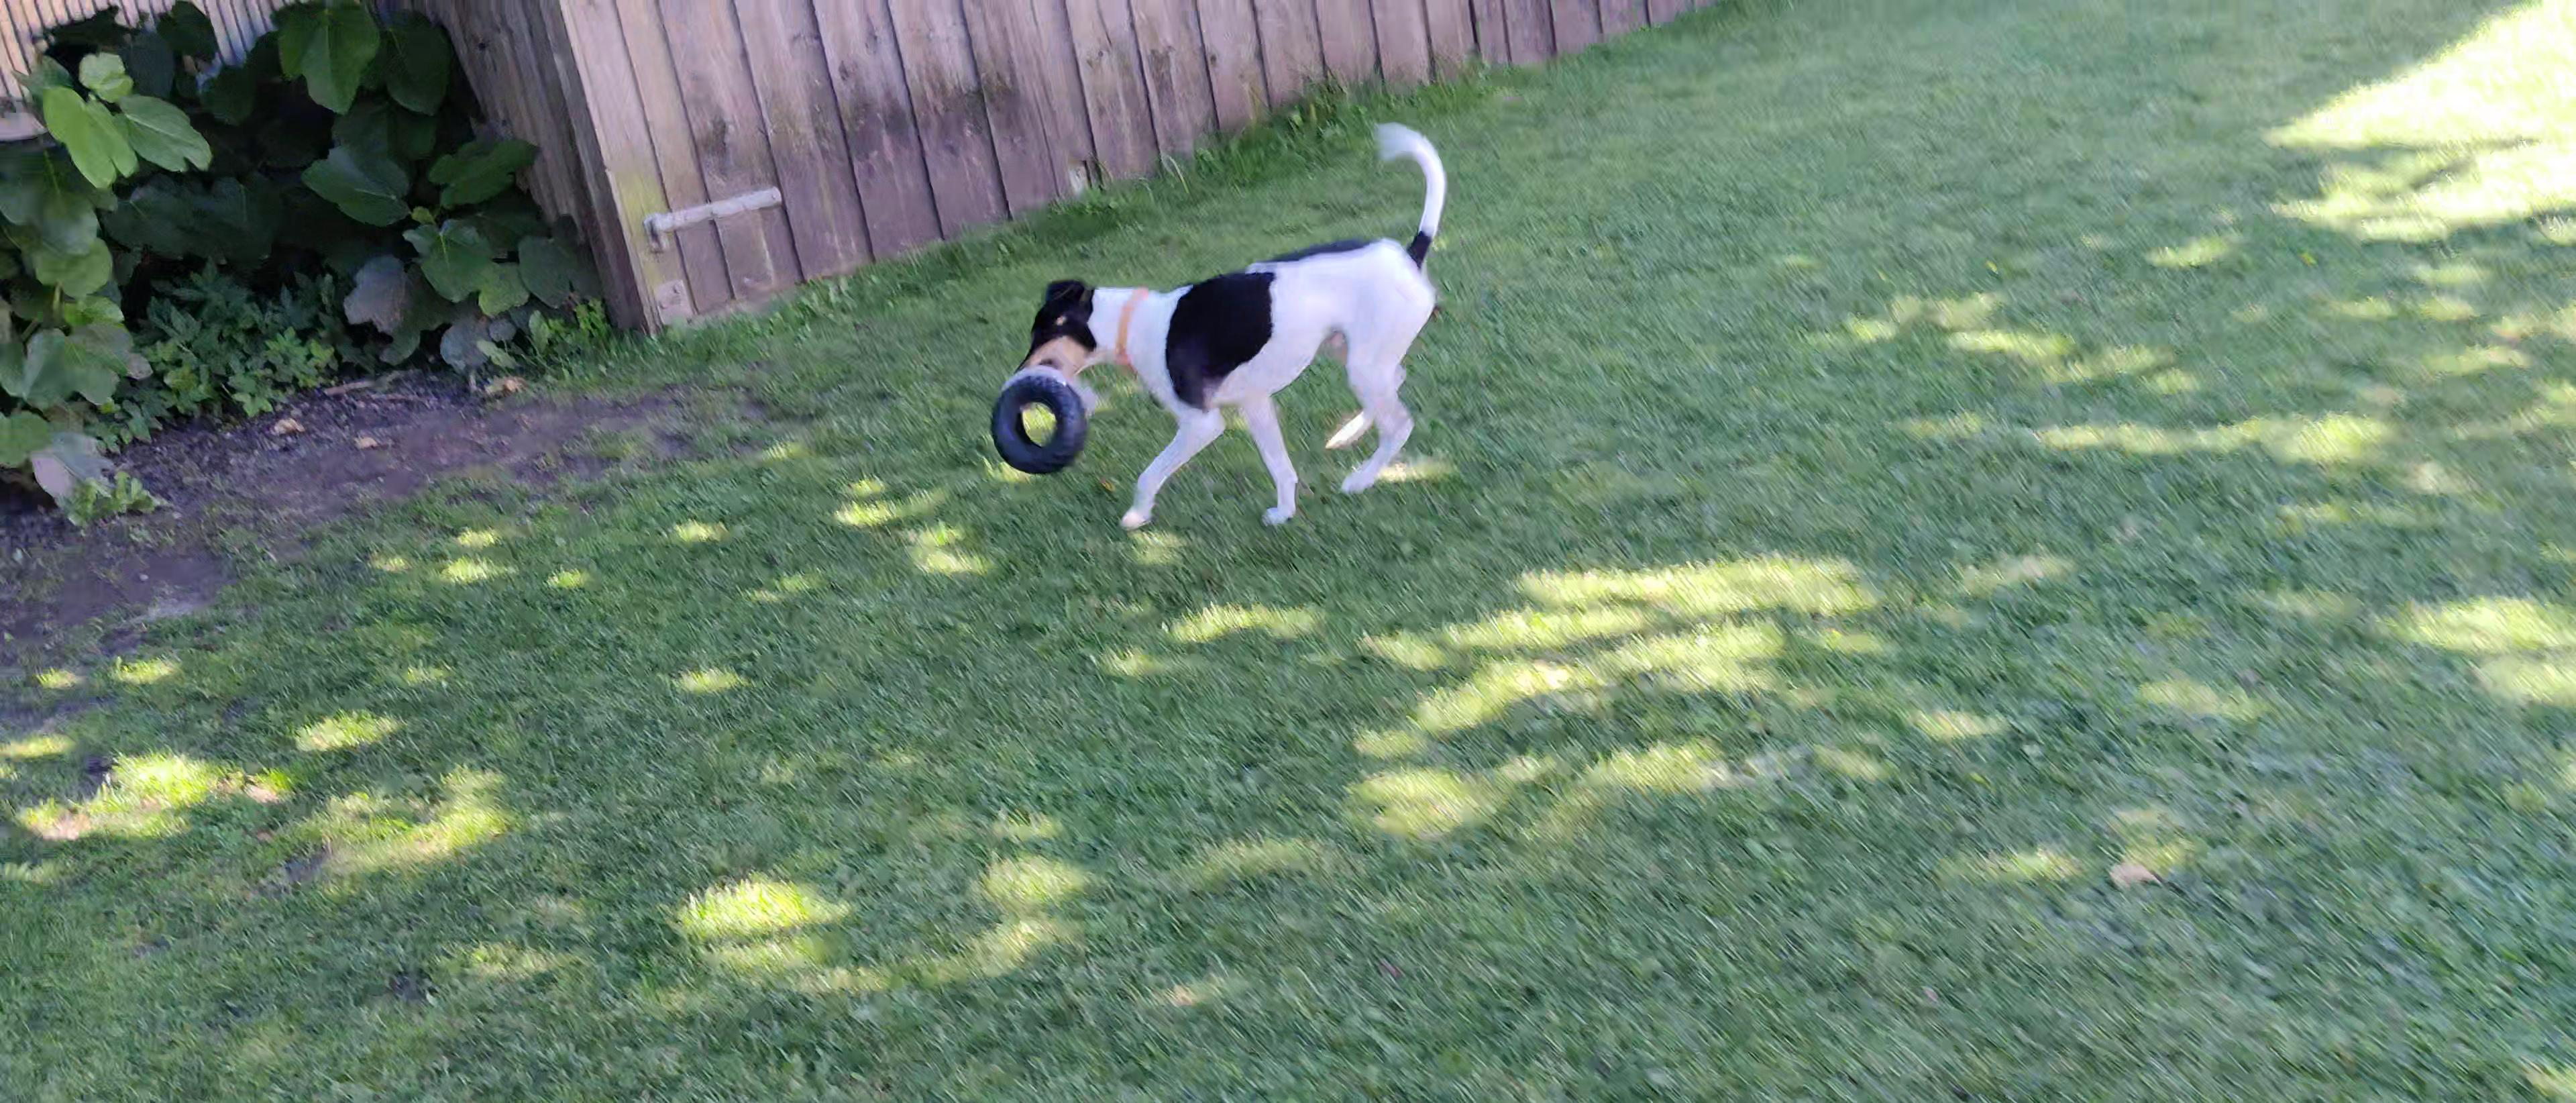Dog: (1014, 118, 1454, 538)
